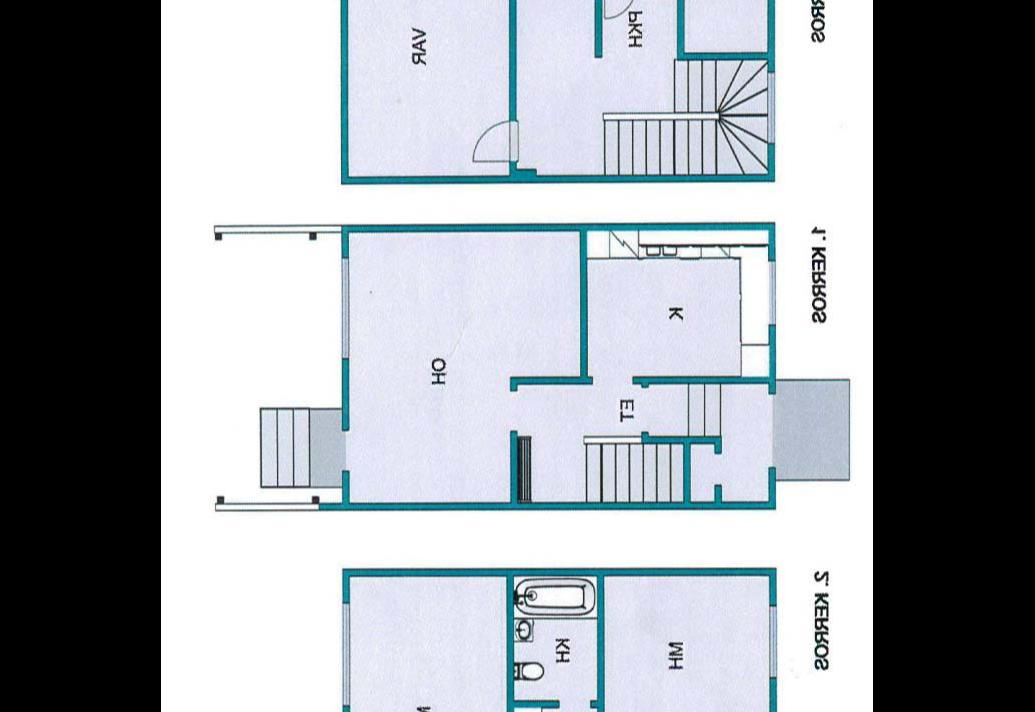door: (470, 113, 520, 168), (602, 0, 640, 23)
window: (338, 594, 356, 712), (338, 250, 355, 365), (762, 64, 782, 150), (764, 598, 782, 686), (764, 253, 780, 333)
